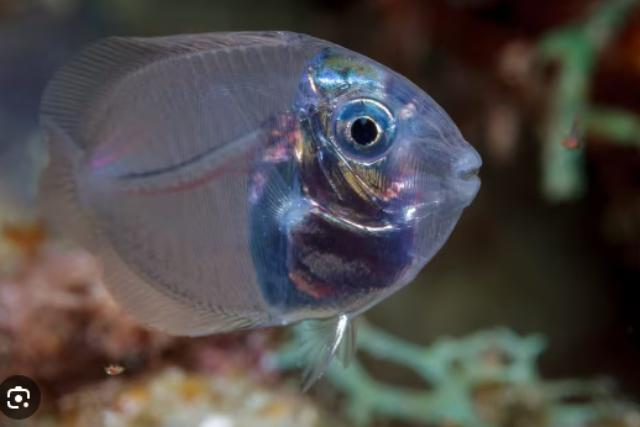Mulut: (422, 131, 510, 227)
Sirip Anal: (70, 212, 258, 360)
Sirip Dada: (182, 69, 322, 263)
Sirip Ekor: (18, 112, 104, 256)
Sirip Perut: (285, 307, 377, 403)
Sirip Punggung: (34, 22, 296, 142)
